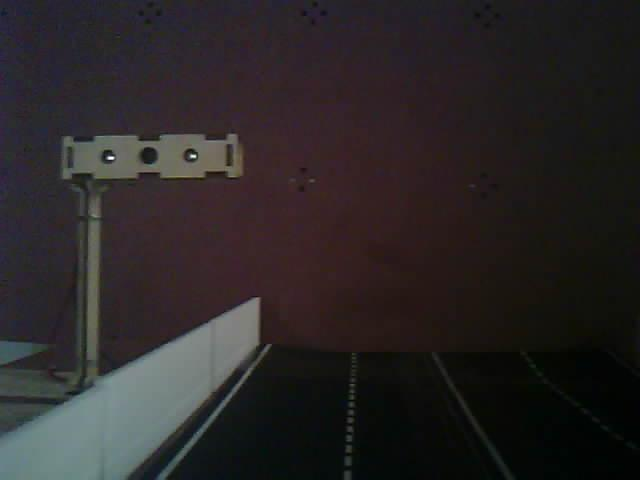no: (30, 106, 277, 433)
